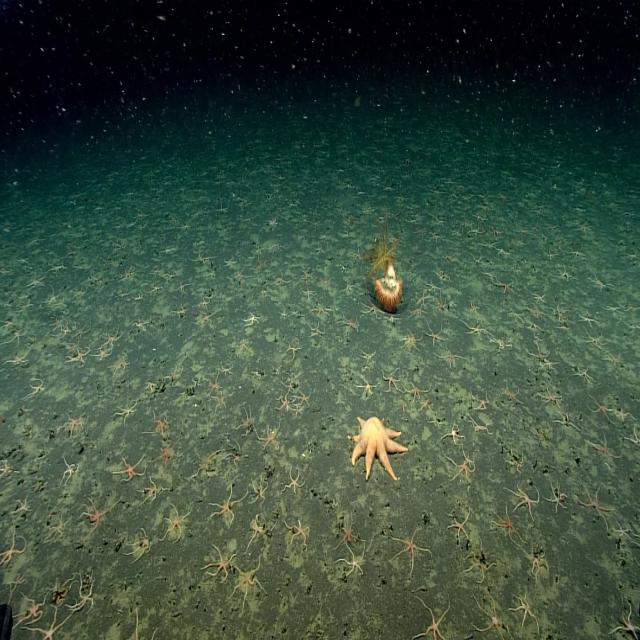brittle-stars: (392, 528, 428, 570), (413, 600, 450, 640), (579, 480, 611, 524), (476, 596, 506, 640), (210, 485, 242, 525), (233, 560, 263, 602), (511, 592, 540, 632), (510, 482, 540, 518), (37, 609, 71, 640), (18, 590, 47, 626), (465, 541, 491, 580), (494, 506, 520, 545), (205, 546, 233, 582), (162, 503, 188, 540), (46, 573, 73, 607), (615, 604, 640, 640), (85, 498, 111, 532), (118, 453, 146, 483), (0, 530, 24, 565), (73, 578, 94, 614), (341, 546, 366, 576), (157, 440, 182, 470), (196, 450, 220, 481), (448, 457, 476, 483), (130, 528, 152, 561), (286, 520, 310, 549), (450, 512, 471, 544), (546, 482, 568, 512), (591, 435, 614, 462), (527, 549, 547, 579), (588, 396, 612, 421), (259, 424, 281, 450), (337, 521, 359, 547), (114, 401, 138, 424), (141, 478, 162, 504), (50, 513, 71, 539), (504, 447, 525, 473), (248, 516, 266, 546), (284, 469, 304, 494), (440, 345, 462, 367), (539, 383, 560, 406), (382, 369, 402, 393), (616, 520, 636, 544), (150, 413, 169, 438), (228, 442, 246, 468), (7, 570, 27, 593), (251, 479, 267, 506), (408, 381, 428, 402), (64, 415, 84, 436), (501, 382, 520, 404), (67, 347, 89, 366), (240, 408, 256, 434), (62, 459, 79, 483), (444, 424, 464, 444), (403, 331, 422, 352), (361, 302, 382, 321), (8, 327, 27, 348), (166, 366, 184, 388), (425, 325, 444, 345), (358, 377, 377, 397), (472, 418, 492, 437), (576, 363, 594, 384), (112, 354, 129, 376), (626, 426, 640, 452), (528, 343, 547, 362), (464, 320, 484, 338), (105, 326, 123, 346), (28, 378, 46, 398), (492, 335, 512, 353), (8, 352, 30, 368), (12, 496, 28, 517), (0, 457, 15, 479), (605, 350, 622, 369), (73, 323, 90, 342), (474, 390, 490, 410), (342, 314, 359, 332), (494, 278, 513, 294), (214, 390, 229, 410), (586, 333, 603, 350), (580, 311, 597, 328), (557, 265, 573, 283), (28, 274, 46, 290), (208, 374, 222, 394), (46, 286, 60, 306), (244, 312, 261, 328), (310, 320, 326, 337), (284, 342, 300, 358), (200, 311, 216, 327), (510, 308, 526, 324), (94, 347, 112, 361), (278, 393, 292, 411), (466, 298, 479, 317), (314, 303, 330, 318), (554, 306, 569, 322), (617, 407, 631, 424), (135, 316, 148, 334), (274, 272, 289, 287), (176, 280, 190, 296), (426, 279, 440, 295), (604, 303, 620, 317), (542, 357, 556, 372), (233, 269, 247, 284), (568, 248, 584, 261), (74, 284, 87, 300), (238, 338, 250, 355), (148, 282, 162, 296), (220, 361, 233, 376), (351, 247, 364, 262), (410, 306, 425, 319), (300, 390, 312, 406), (420, 397, 432, 413), (417, 291, 430, 305), (532, 306, 547, 318), (284, 379, 296, 394), (223, 256, 237, 268), (304, 287, 318, 299), (464, 452, 476, 466), (533, 290, 545, 303), (124, 268, 136, 281), (292, 405, 303, 419), (279, 307, 290, 321), (441, 270, 452, 284), (472, 210, 484, 222), (469, 224, 481, 235), (150, 266, 161, 278)
